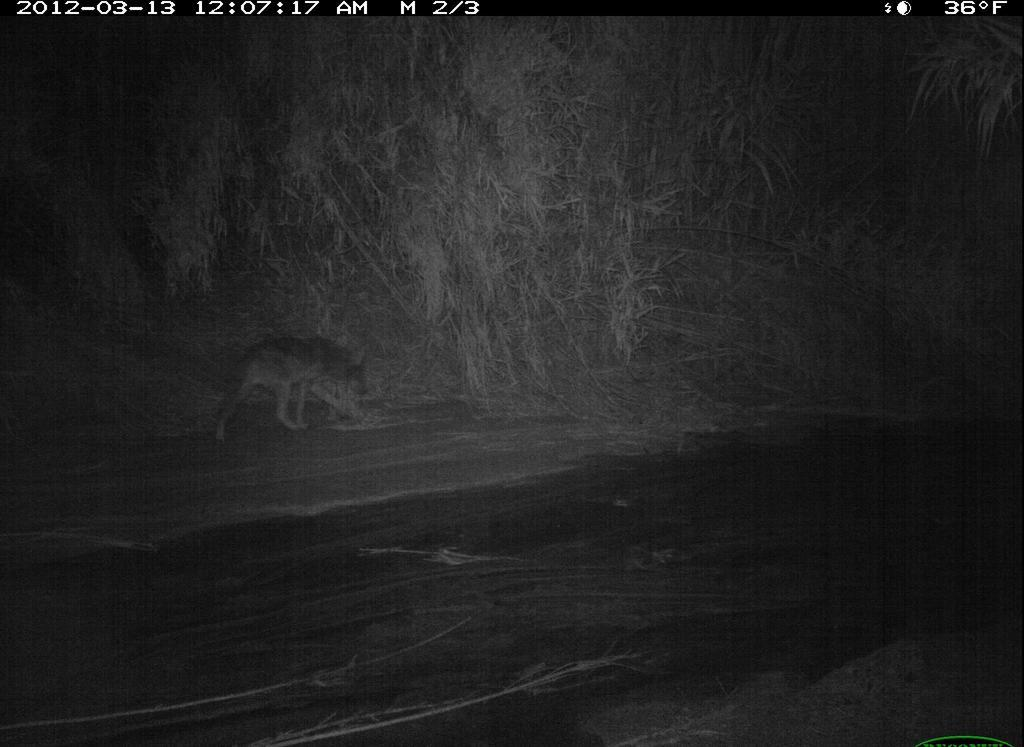coyote: (209, 333, 376, 446)
